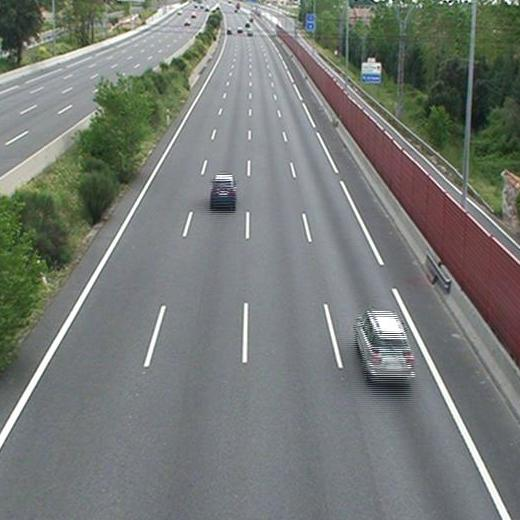car: (355, 311, 413, 377), (210, 174, 236, 203)
